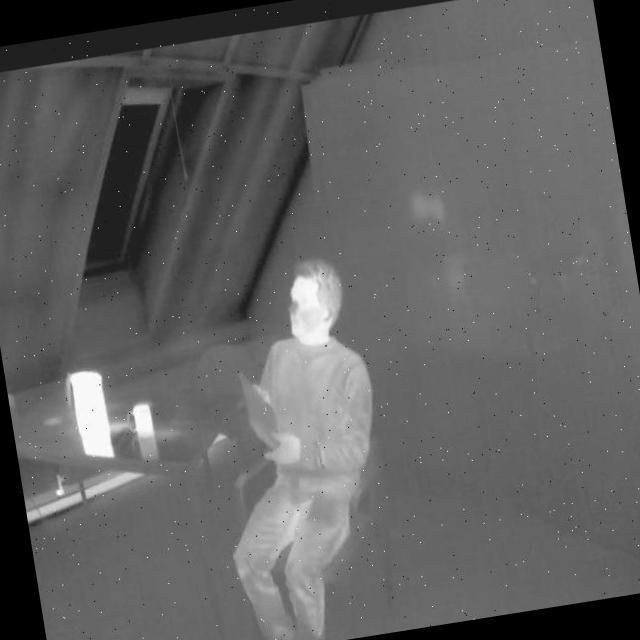person: (182, 250, 414, 640)
